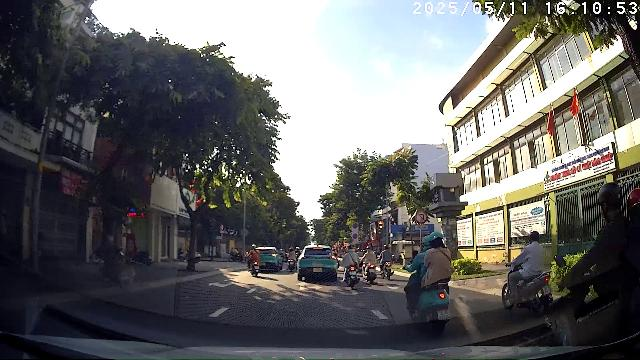103c-cam-oto-re-trai: (415, 210, 427, 224)
